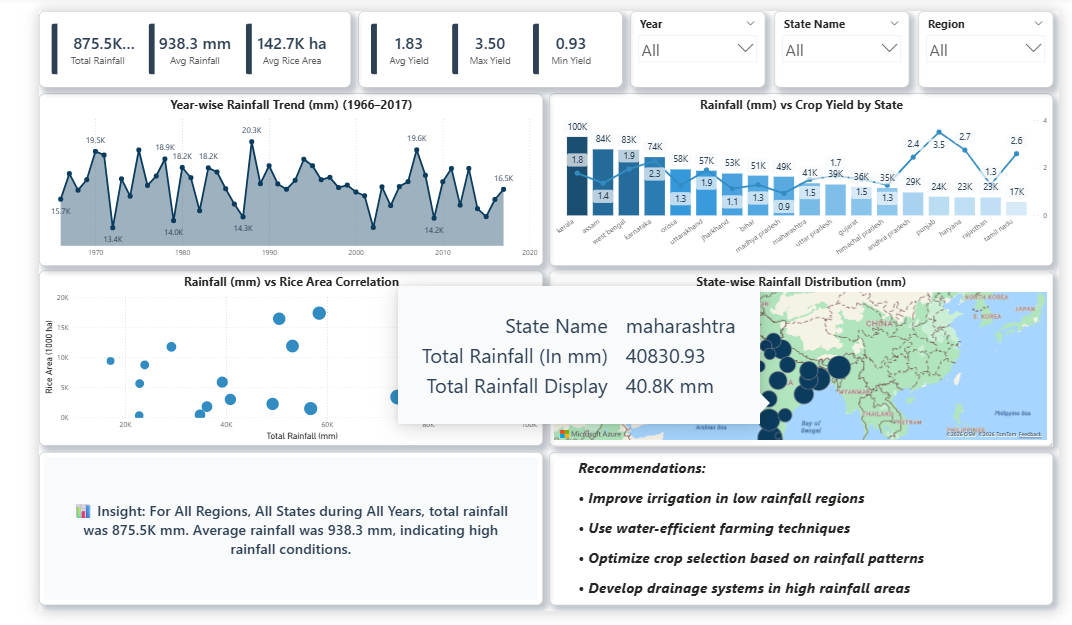

Layout of this report page (visuals, bound fields, positions):
{"tool":"powerbi","page":{"name":"Rainfall & Agricultural Productivity Dashboard","canvas":[1700,1000],"ordinal":1},"visuals":[{"type":"lineChart","title":"Year-wise Rainfall Trend (mm) (1966–2017)","fields":{"Category":["rain-agriculture.Year"],"Y":["_Measures.Total Rainfall"]},"box":[0,137,840,287.2],"z":0},{"type":"cardVisual","fields":{"Data":["_Measures.Total Rainfall Display","_Measures.Avg Rainfall Display","_Measures.Avg Rice Area Display"]},"box":[0,0,520,127.5],"z":1000},{"type":"lineClusteredColumnComboChart","title":"Rainfall (mm) vs Crop Yield by State","fields":{"Category":["rain-agriculture.State Name"],"Y":["_Measures.Total Rainfall"],"Y2":["_Measures.Rice Yield"]},"box":[850,137.5,840,287.5],"z":2000},{"type":"azureMap","title":"State-wise Rainfall Distribution (mm)","fields":{"Category":["rain-agriculture.State Name"],"Size":["_Measures.Total Rainfall"]},"box":[850,432.5,840,292.5],"z":3000},{"type":"slicer","fields":{"Values":["rain-agriculture.Year"]},"box":[985,0,225,127.5],"z":4000},{"type":"slicer","fields":{"Values":["rain-agriculture.State Name"]},"box":[1225,0,225,127.5],"z":5000},{"type":"slicer","fields":{"Values":["rain-agriculture.Region"]},"box":[1465,0,225,127.5],"z":6000},{"type":"scatterChart","title":"Rainfall (mm) vs Rice Area Correlation","fields":{"X":["_Measures.Total Rainfall"],"Size":["_Measures.Total Rainfall"],"Y":["_Measures.Total Rice Area"],"Category":["rain-agriculture.State Name"]},"box":[0,432,840,292],"z":7000},{"type":"cardVisual","fields":{"Data":["_Measures.Dynamic Insight"]},"box":[0,735,840,255],"z":8000},{"type":"cardVisual","fields":{"Data":["_Measures.Avg Yield","_Measures.Max Yield","_Measures.Min Yield"]},"box":[532.5,0,440,127.5],"z":8002},{"type":"textbox","box":[850,735,840,255],"z":8003}]}

Visuals, with their boxes in screenshot pixels (x1, y1, x2, y2), scaled from the page's 1700x1000 canvas onto the 1072x625 screenshot:
"Year-wise Rainfall Trend (mm) (1966–2017)" lineChart: (0, 86, 530, 265)
cardVisual - _Measures.Total Rainfall Display x _Measures.Avg Rainfall Display: (0, 0, 328, 80)
"Rainfall (mm) vs Crop Yield by State" lineClusteredColumnComboChart: (536, 86, 1066, 266)
"State-wise Rainfall Distribution (mm)" azureMap: (536, 270, 1066, 453)
slicer - rain-agriculture.Year: (621, 0, 763, 80)
slicer - rain-agriculture.State Name: (772, 0, 914, 80)
slicer - rain-agriculture.Region: (924, 0, 1066, 80)
"Rainfall (mm) vs Rice Area Correlation" scatterChart: (0, 270, 530, 452)
cardVisual - _Measures.Dynamic Insight: (0, 459, 530, 619)
cardVisual - _Measures.Avg Yield x _Measures.Max Yield: (336, 0, 613, 80)
textbox: (536, 459, 1066, 619)
